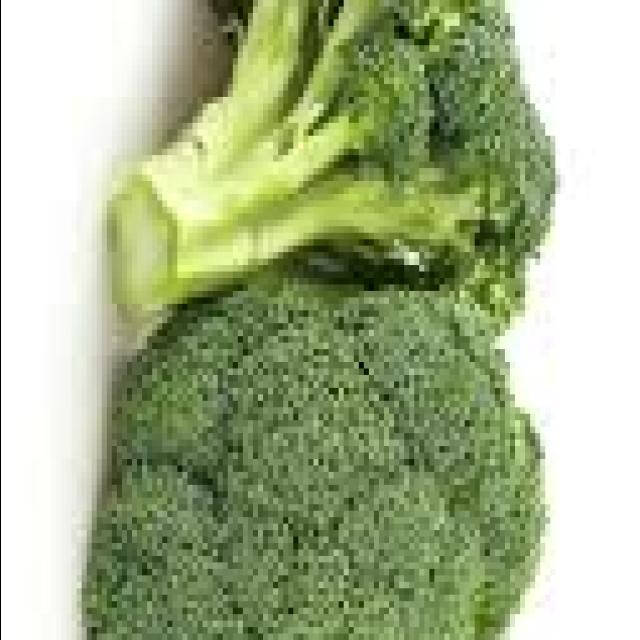broccoli: (76, 284, 544, 640), (101, 0, 559, 343)
